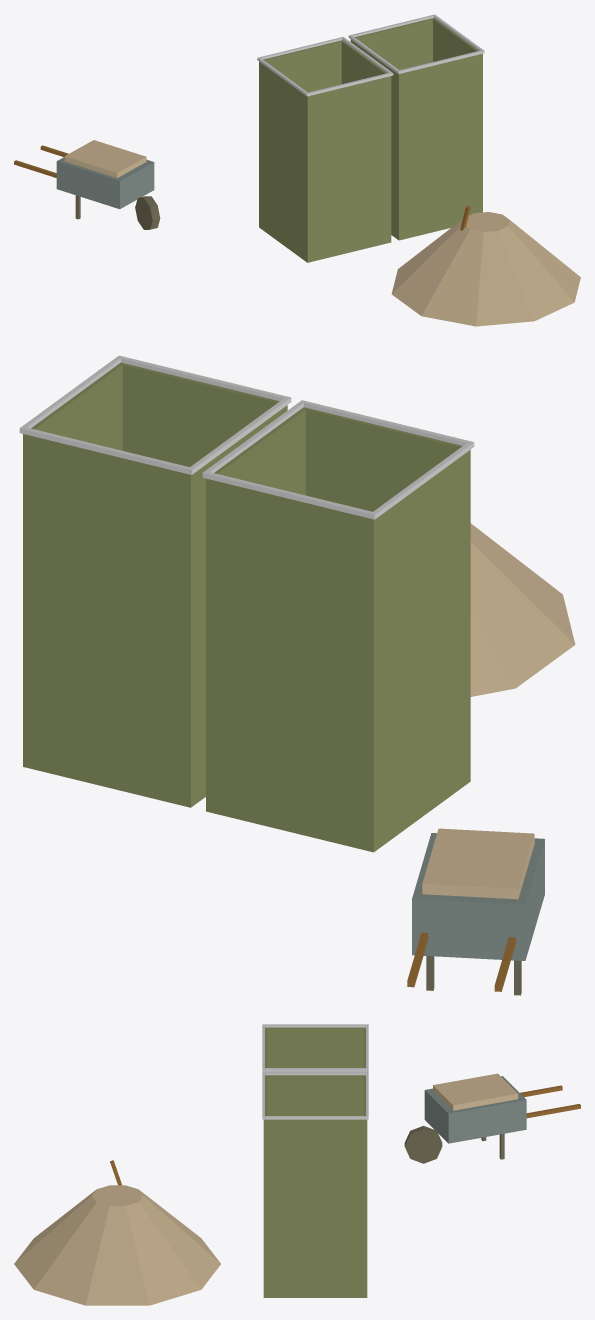
File: SM_ObraHescoAbierto_v4_10m_LOD0.fbx
3 renders of one model, top to bottom at view 1: azimuth 30°, elevation 25°; view 2: azimuth 150°, elevation 25°; view 3: azimuth 270°, elevation 25°, orthographic. The views are drawn at different scales.
Parts seen in each view (by area): view 1: SM_obra_curso_v29_LOD0; view 2: SM_obra_curso_v29_LOD0; view 3: SM_obra_curso_v29_LOD0.
Part boxes in pixels (x1,y1,x2,y2): SM_obra_curso_v29_LOD0: (14,14,580,326); SM_obra_curso_v29_LOD0: (19,355,575,995); SM_obra_curso_v29_LOD0: (14,1024,580,1305).
Size of the model in its own units: 4.52 by 2.14 by 6.02.
